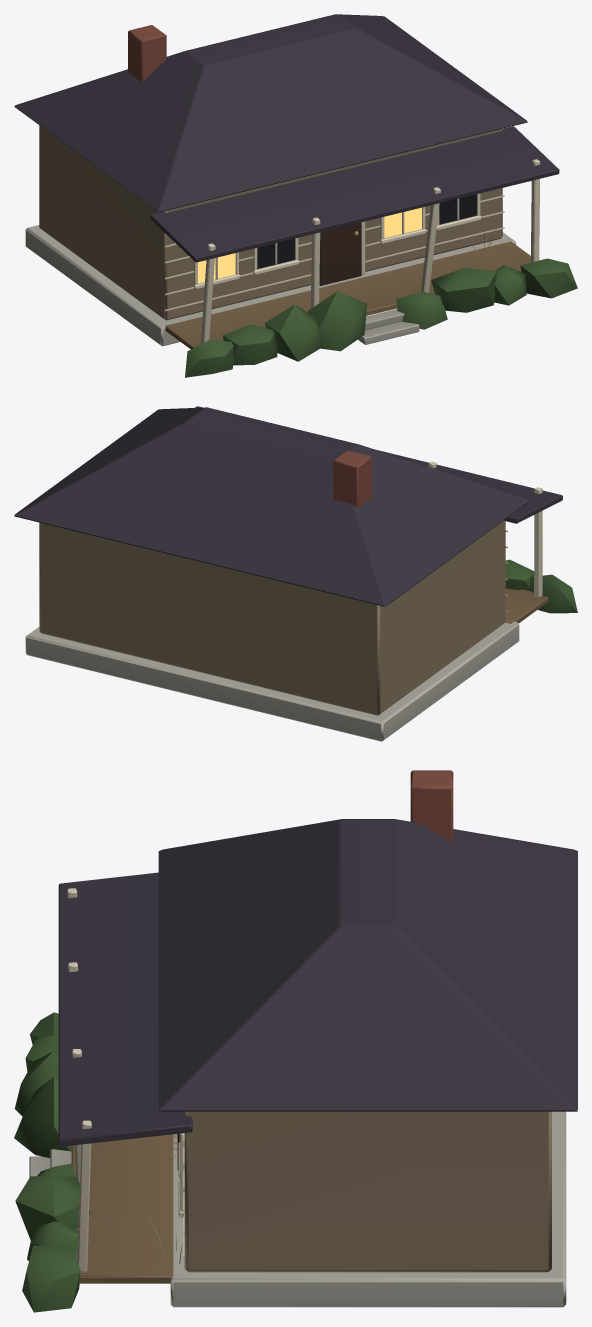
File: env_house_b.glb
The picture shows the model from 3 angles, top to bottom: view 1: azimuth 30°, elevation 25°; view 2: azimuth 150°, elevation 25°; view 3: azimuth 270°, elevation 25°; orthographic projection. The views are drawn at different scales.
Parts seen in each view (by area): view 1: env_house_b, bulb; view 2: env_house_b; view 3: env_house_b.
Boxes of the visible parts, x1,y1,x2,y2 form: env_house_b: (14,14,577,377); bulb: (198,207,421,283); env_house_b: (14,406,577,741); env_house_b: (14,770,577,1312).
Size of the model in its own units: 9.12 by 5.2 by 7.98.
